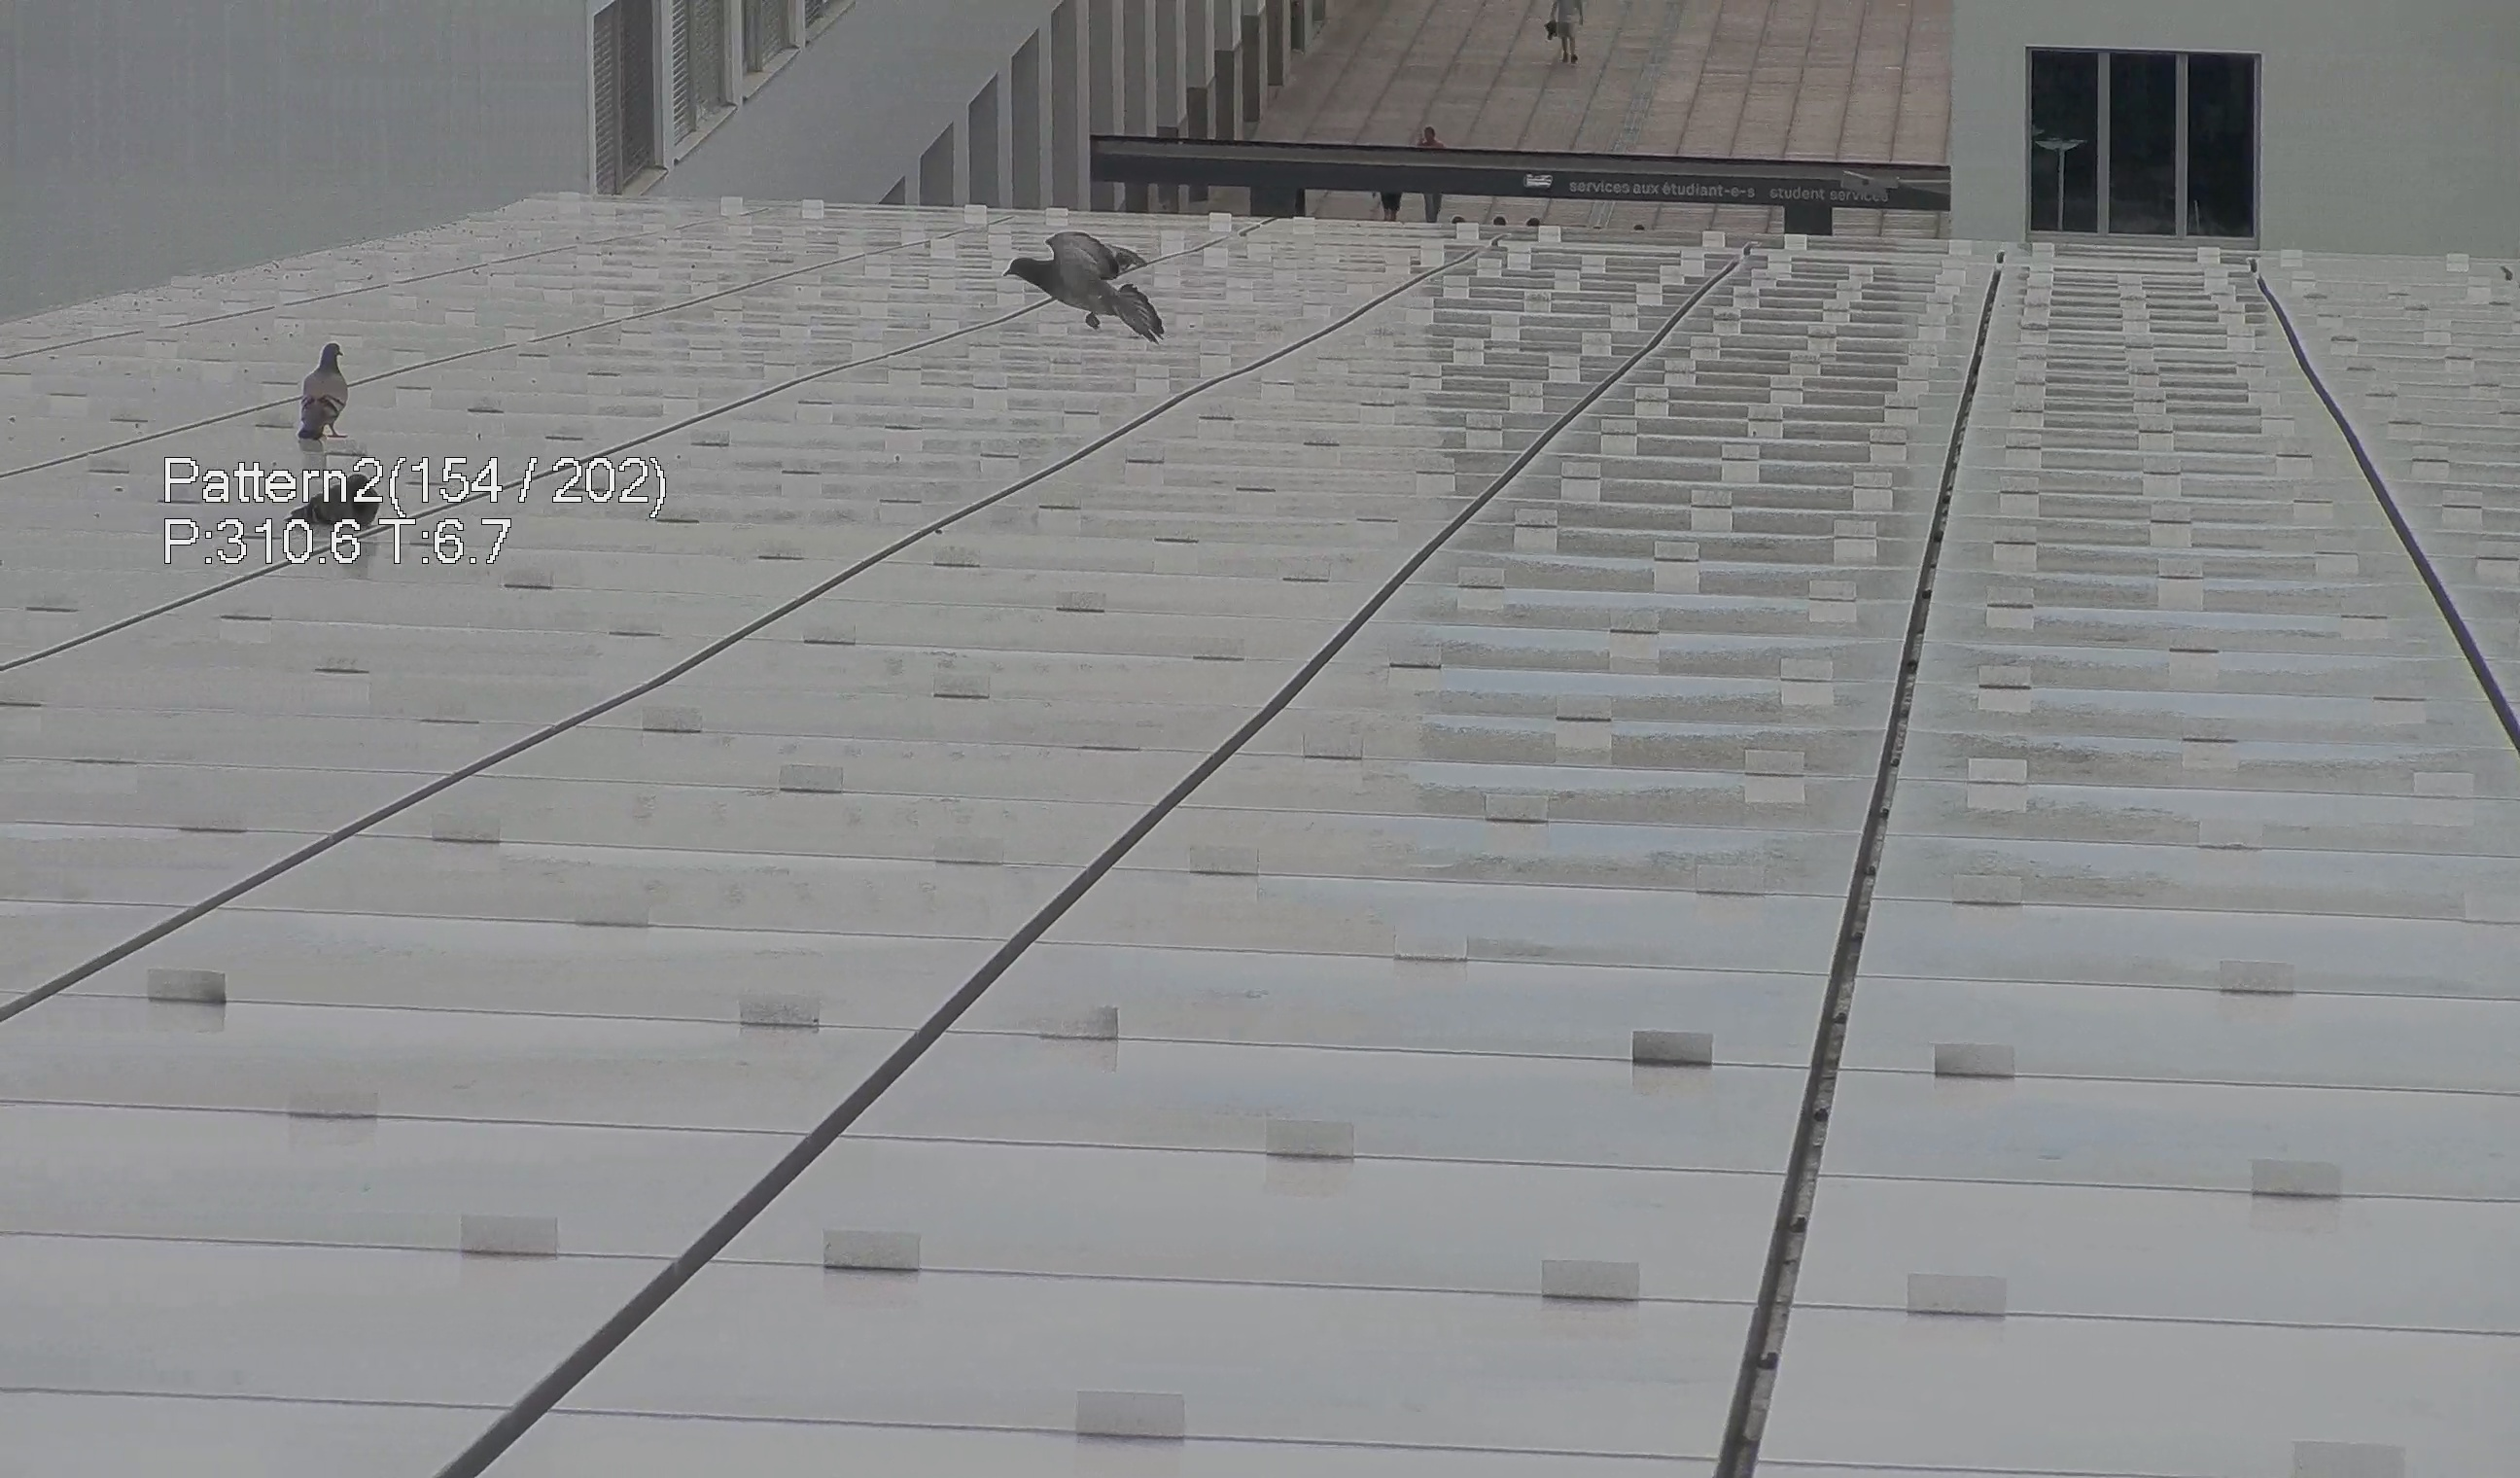Pigeon: (999, 213, 1171, 347), (278, 338, 369, 466), (287, 466, 397, 538)
